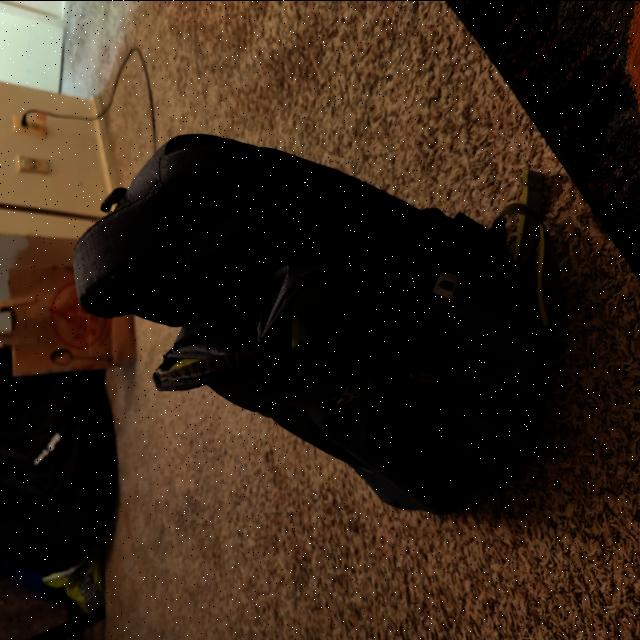bag: (79, 150, 542, 512)
